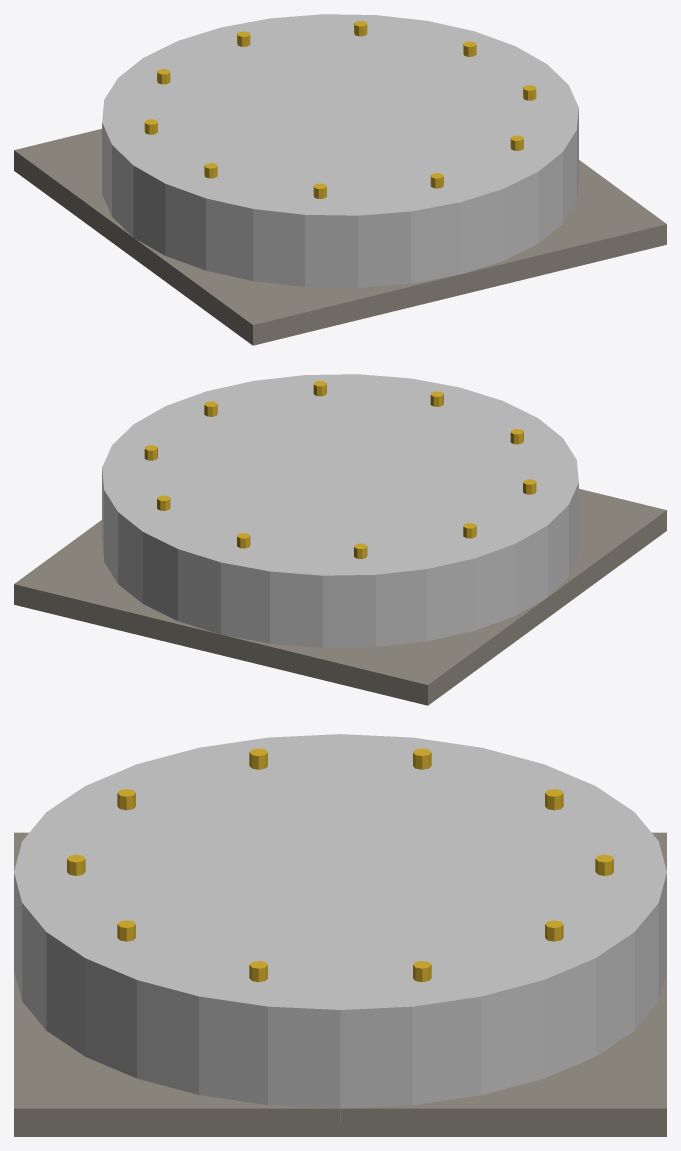
Rendered from silo_hatch.obj.
3 renders of one model, top to bottom at view 1: azimuth 30°, elevation 25°; view 2: azimuth 150°, elevation 25°; view 3: azimuth 270°, elevation 25°, orthographic. The views are drawn at different scales.
Visible parts, largest first — view 1: silo_hatch; view 2: silo_hatch; view 3: silo_hatch.
Part boxes in pixels (<box>): silo_hatch: <box>14,14,666,345</box>; silo_hatch: <box>14,374,666,705</box>; silo_hatch: <box>14,734,666,1136</box>.
Size of the model in its own units: 0.84 by 0.1992 by 0.84.
